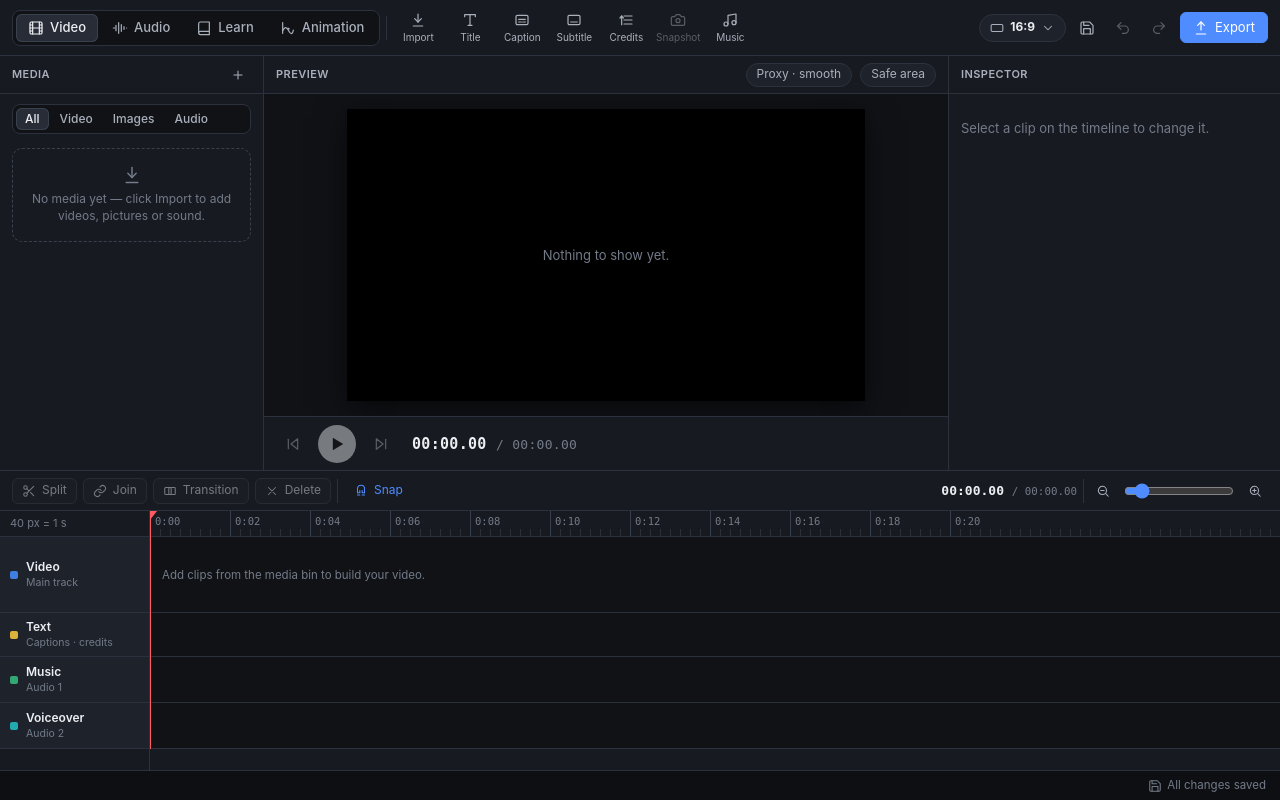
Test case: keyframes on the timeline (AN9) › Insert keyframe fixes every property of the selection at the playhead
Click the button "Animation" at (322, 28), box x1=268 y1=14 x2=376 y2=42
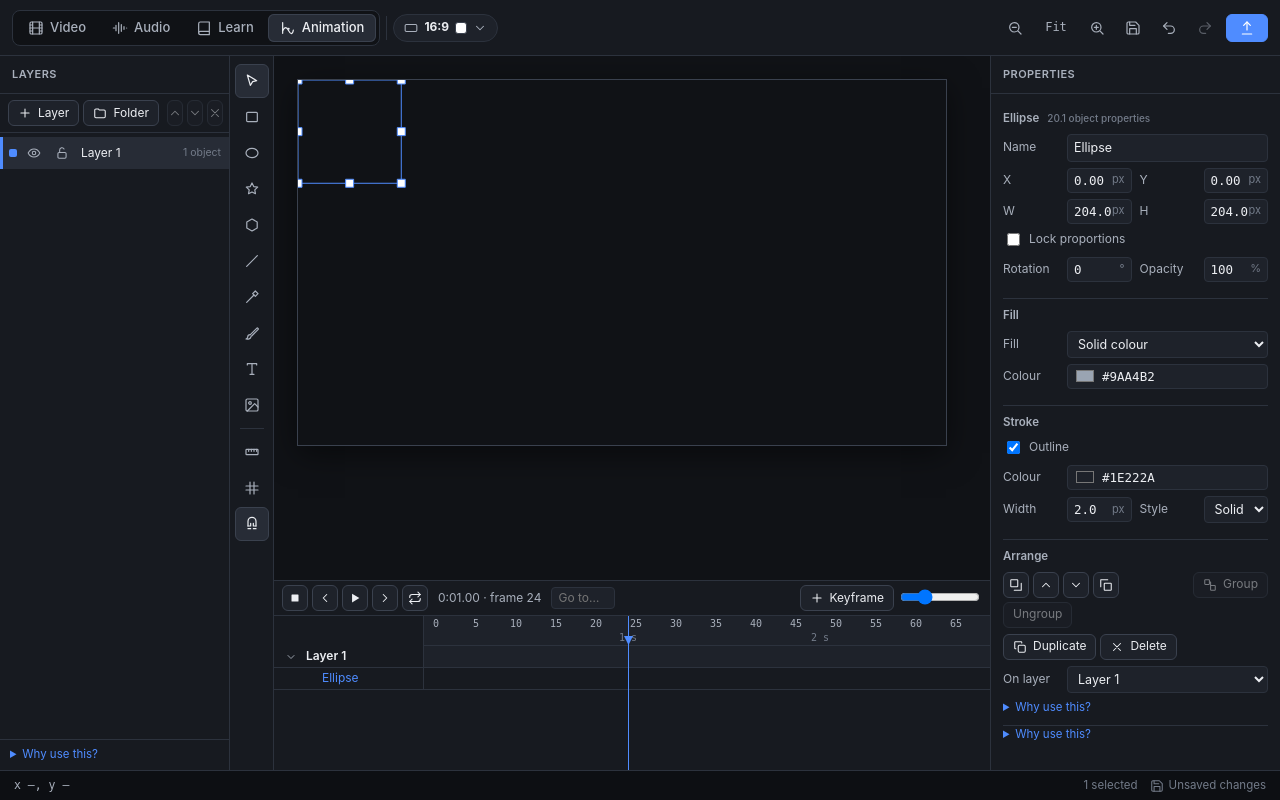
Click the button with aria-label "Insert keyframe" at (847, 598), box x1=800 y1=585 x2=894 y2=611
(page scrolled)
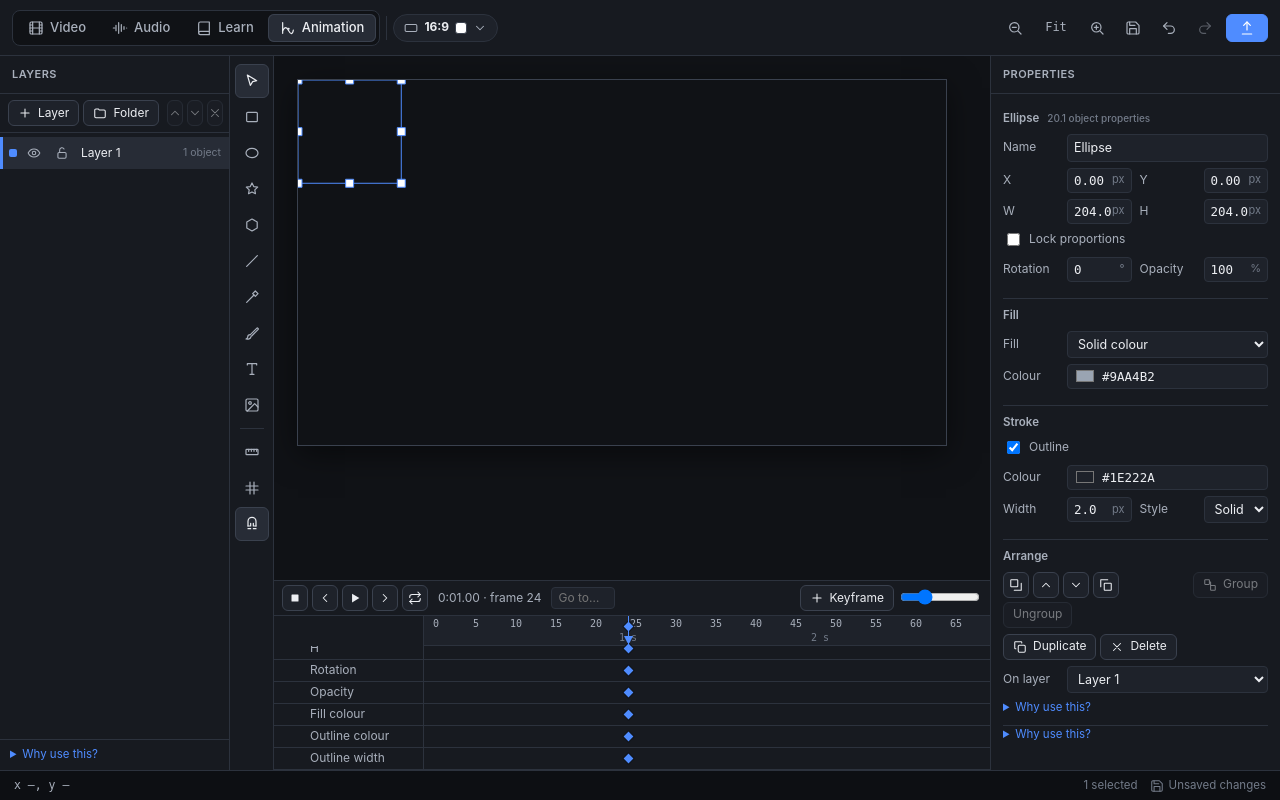
Expected: the button named "Opacity keyframe at frame 24" is shown, x1=622 y1=686 x2=634 y2=699
